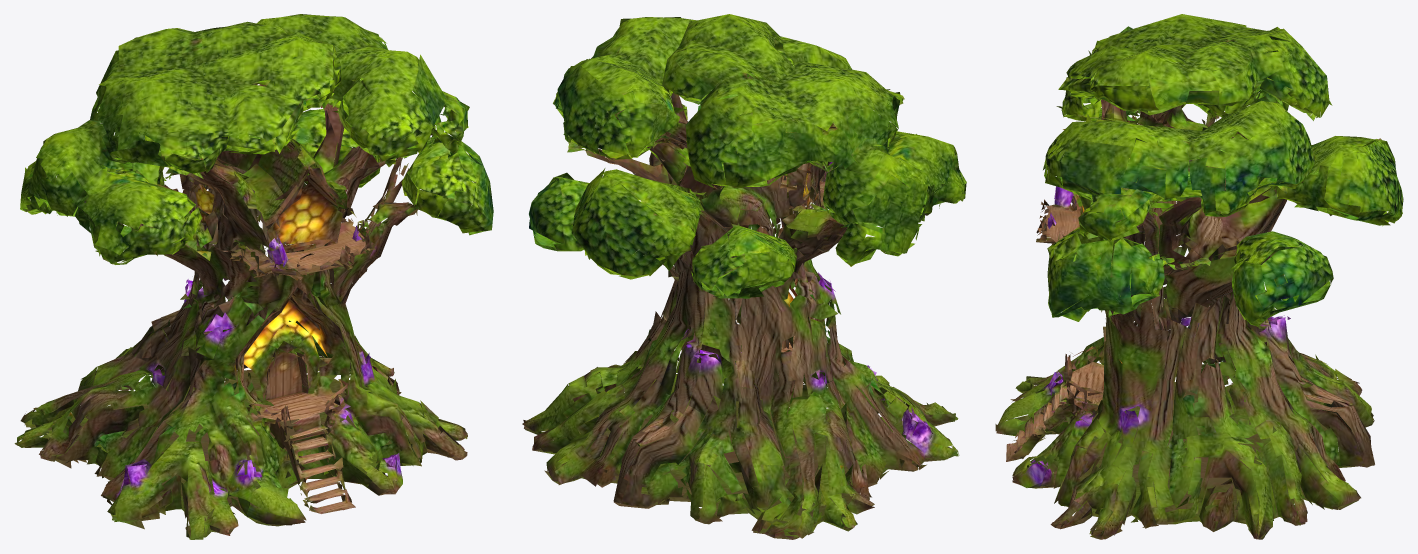
File: bee-cottage.glb
3 views of the same model, side by side, from view 1: azimuth 30°, elevation 25°; view 2: azimuth 150°, elevation 25°; view 3: azimuth 270°, elevation 25° (orthographic).
Parts seen in each view (by area): view 1: Bee Tree Cottage; view 2: Bee Tree Cottage; view 3: Bee Tree Cottage.
Boxes of the visible parts, x1,y1,x2,y2 form: Bee Tree Cottage: (14,14,493,539); Bee Tree Cottage: (522,14,966,539); Bee Tree Cottage: (995,14,1403,539).
Bounding box in the file's own units: 12.23 × 12.31 × 10.77.
Materials: 1 (1 with a texture image).
